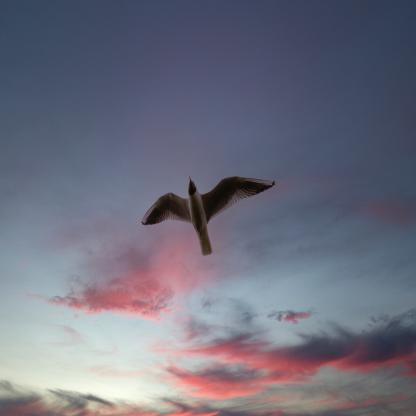bird: (141, 173, 275, 257)
